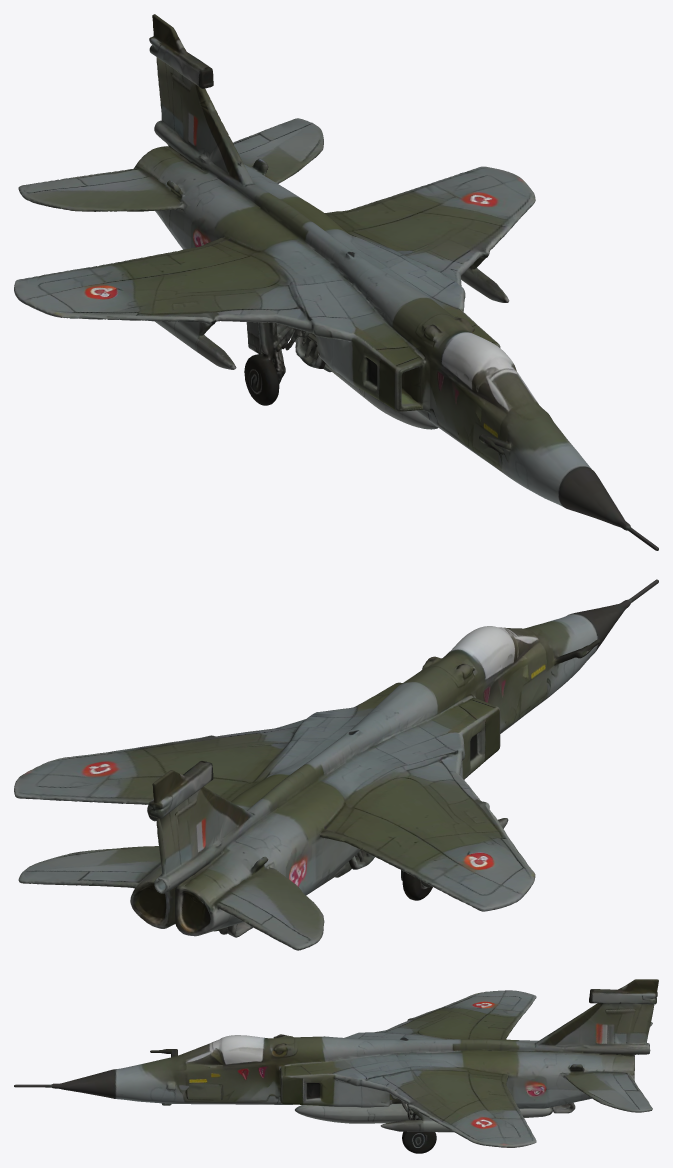
Rendered from hero.glb.
3 views of the same model, one above another, from view 1: azimuth 30°, elevation 25°; view 2: azimuth 150°, elevation 25°; view 3: azimuth 270°, elevation 25° (orthographic). The views are drawn at different scales.
Parts seen in each view (by area): view 1: tripo_node_90e7a722-4315-4ce1-a901-0a6cd54d411e; view 2: tripo_node_90e7a722-4315-4ce1-a901-0a6cd54d411e; view 3: tripo_node_90e7a722-4315-4ce1-a901-0a6cd54d411e.
Part boxes in pixels (left/top/right/bottom): tripo_node_90e7a722-4315-4ce1-a901-0a6cd54d411e: left=14, top=14, right=658, bottom=550; tripo_node_90e7a722-4315-4ce1-a901-0a6cd54d411e: left=14, top=579, right=658, bottom=950; tripo_node_90e7a722-4315-4ce1-a901-0a6cd54d411e: left=14, top=979, right=658, bottom=1153.
Size of the model in its own units: 0.5718 by 0.2551 by 1.
Materials: 1 (1 with a texture image).
